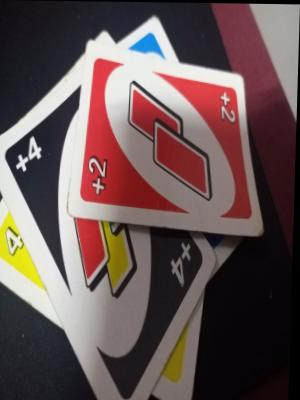-2: (123, 68, 216, 207), (87, 152, 113, 204), (217, 82, 242, 132)
num_4: (2, 219, 31, 260)
wild-4: (69, 214, 145, 317), (167, 231, 198, 290), (10, 132, 48, 178)
